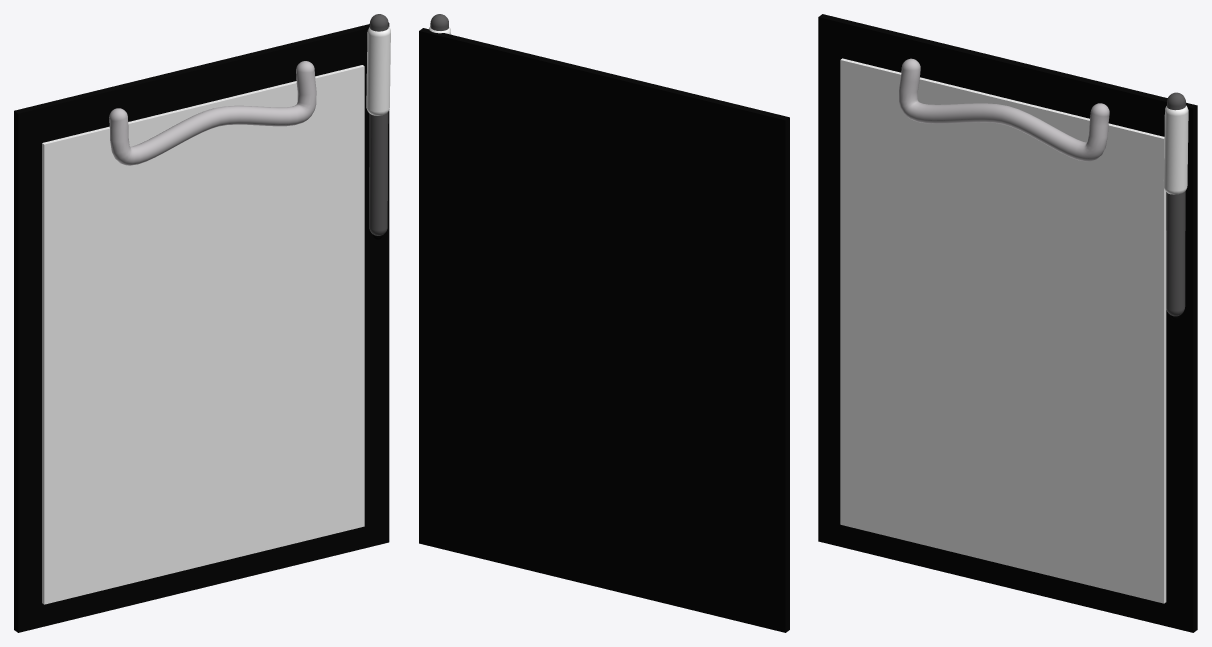
The model's file is GodGameNote.fbx.
The picture shows the model from 3 angles, left to right: view 1: azimuth 30°, elevation 25°; view 2: azimuth 150°, elevation 25°; view 3: azimuth 330°, elevation 25°; orthographic projection. The views are drawn at different scales.
Parts seen in each view (by area): view 1: root (×5); view 2: root; view 3: root (×5).
Boxes of the visible parts, bbox=[...] form: root (×5): bbox=[14, 14, 390, 632]; root: bbox=[419, 28, 789, 632]; root (×5): bbox=[818, 14, 1197, 632].
Size of the model in its own units: 0.4509 by 0.6188 by 0.0347.
Materials: 6 (5 with a texture image).
